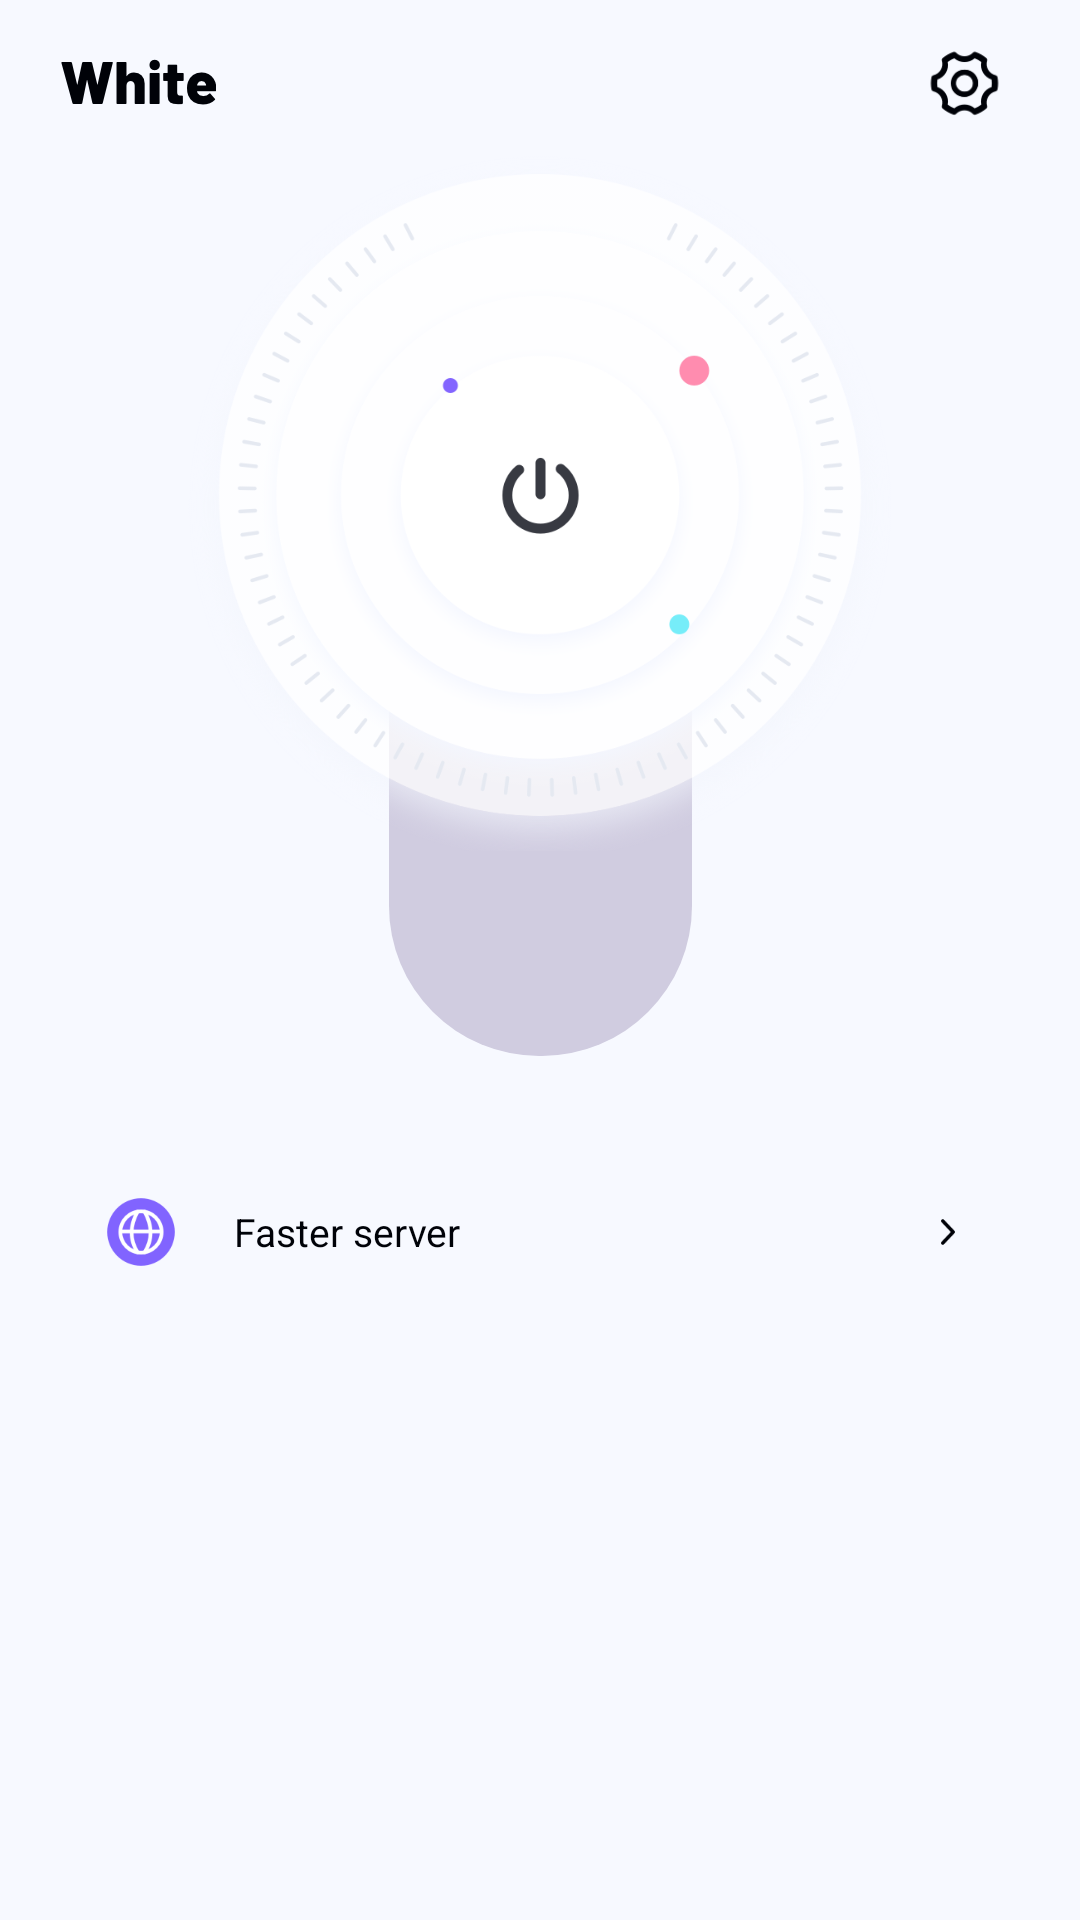

Icons on this 1080*1920 Android screen, each with the point to tap as (x=x, y=y):
home set: (x=964, y=83)
right: (x=948, y=1232)
